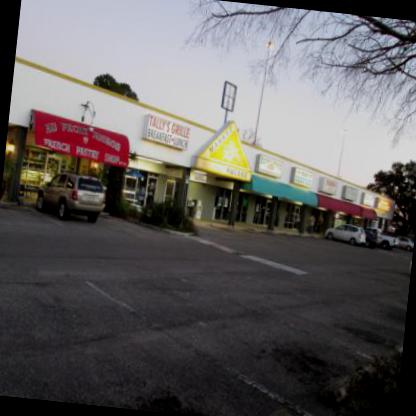car: (35, 167, 108, 223), (323, 220, 368, 247), (363, 228, 381, 246), (396, 236, 413, 251), (406, 252, 412, 278)
